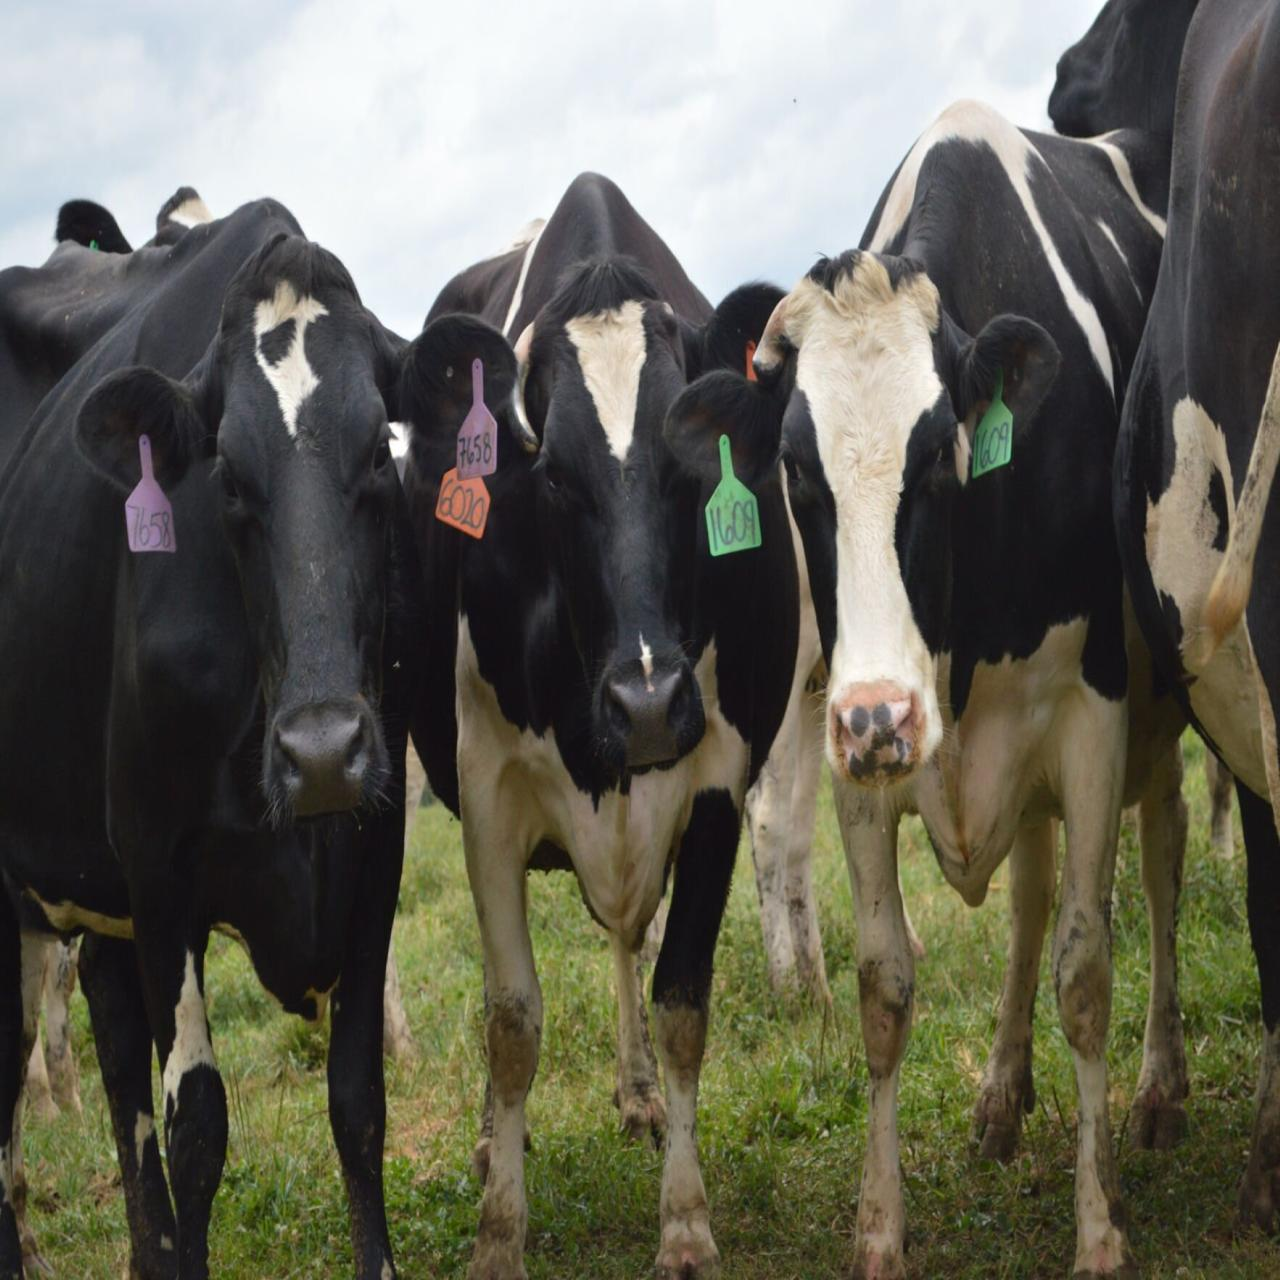cow: (6, 157, 523, 1276), (743, 107, 1176, 1276), (414, 156, 774, 1280), (1046, 0, 1280, 1254)
